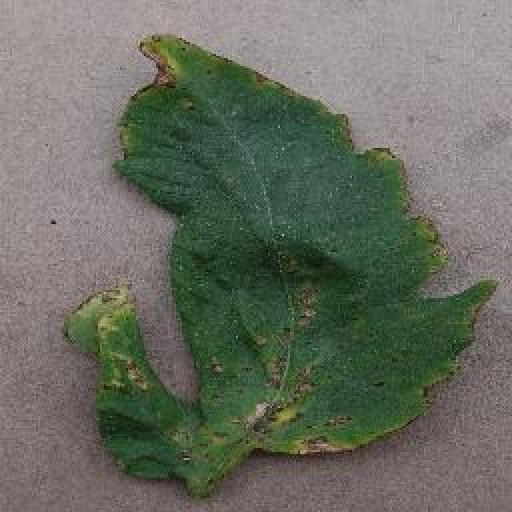Bacterial Spot: (58, 24, 505, 505)
